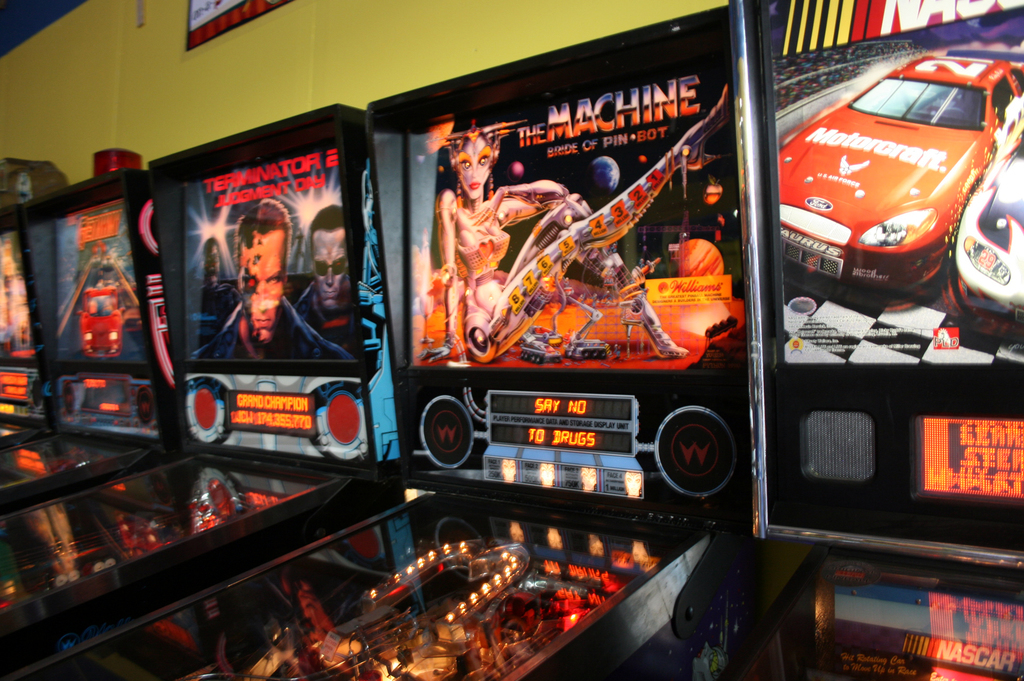Person: (416, 82, 726, 364), (188, 196, 356, 365), (294, 203, 359, 352)
